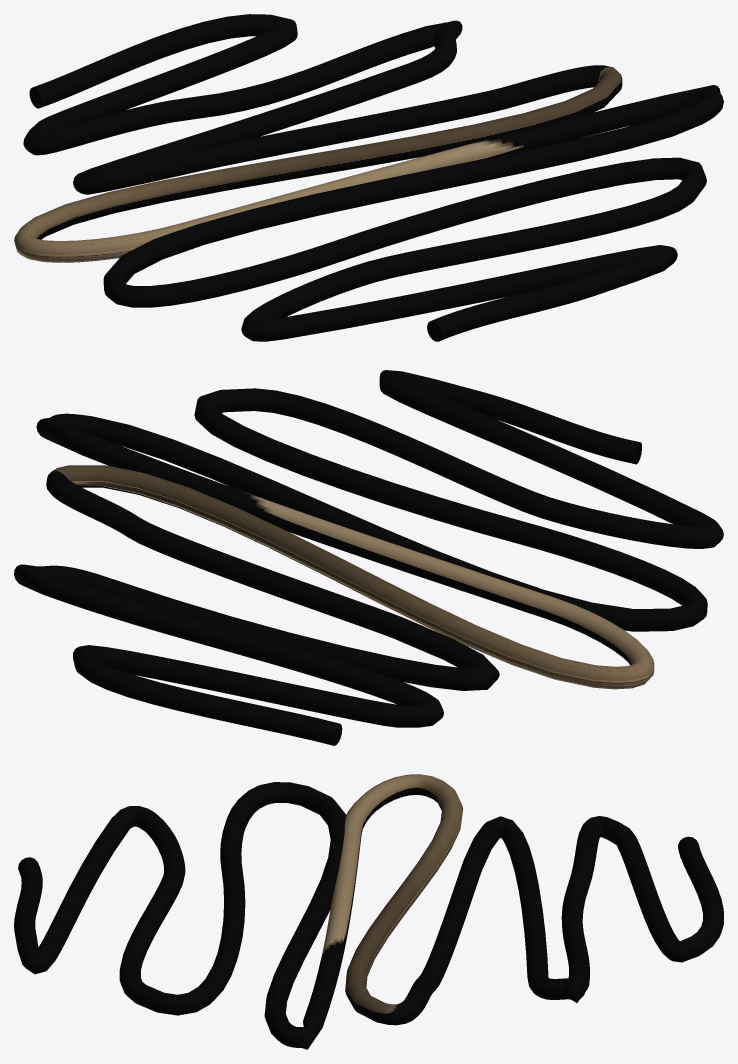
File: SaladDressing_Poured.fbx
The picture shows the model from 3 angles, top to bottom: view 1: azimuth 30°, elevation 25°; view 2: azimuth 150°, elevation 25°; view 3: azimuth 270°, elevation 25°; orthographic projection. The views are drawn at different scales.
Parts seen in each view (by area): view 1: SaladDressing; view 2: SaladDressing; view 3: SaladDressing.
Boxes of the visible parts, left/top/right/bottom form: SaladDressing: left=14, top=14, right=723, bottom=341; SaladDressing: left=14, top=370, right=723, bottom=745; SaladDressing: left=14, top=774, right=723, bottom=1049.
Size of the model in its own units: 202 by 17.84 by 200.
